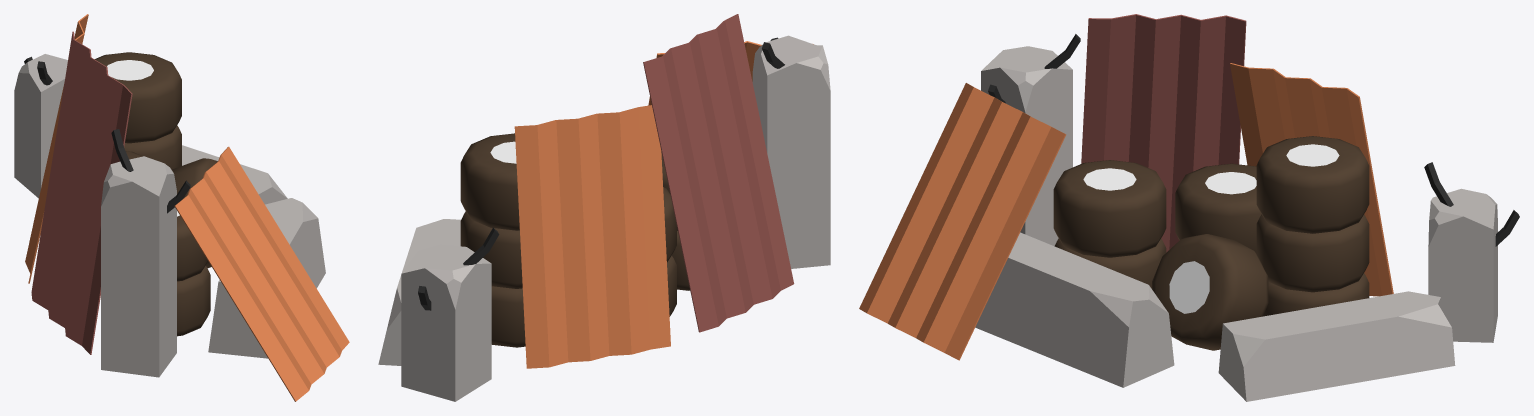
The model's file is Obstacle_2.fbx.
3 renders of one model, left to right at view 1: azimuth 30°, elevation 25°; view 2: azimuth 150°, elevation 25°; view 3: azimuth 270°, elevation 25°, orthographic. The views are drawn at different scales.
Visible parts, largest first — view 1: Obstacle2; view 2: Obstacle2; view 3: Obstacle2.
Boxes of the visible parts, box(x1,y1,x2,y2) form: Obstacle2: box(14, 14, 349, 401); Obstacle2: box(378, 14, 830, 401); Obstacle2: box(859, 14, 1519, 401).
Size of the model in its own units: 254 by 208 by 462.
